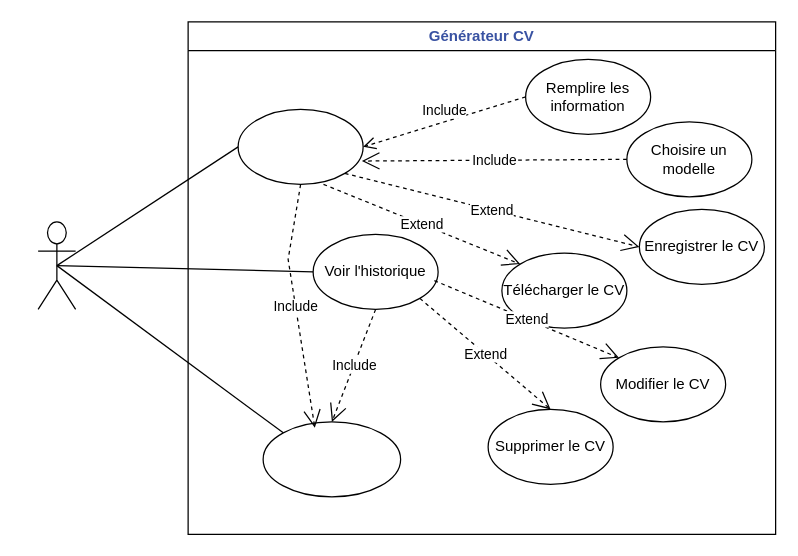
Some shapes in this 798 by 556 pixel diagram are drawn without their labels. The box of each missing label's shape, as (x1, y1, x2, y2) in pixels:
Gennerer un CV: (237, 108, 363, 184)
L'authentification: (262, 421, 401, 497)
Utulisateur: (37, 221, 76, 309)
